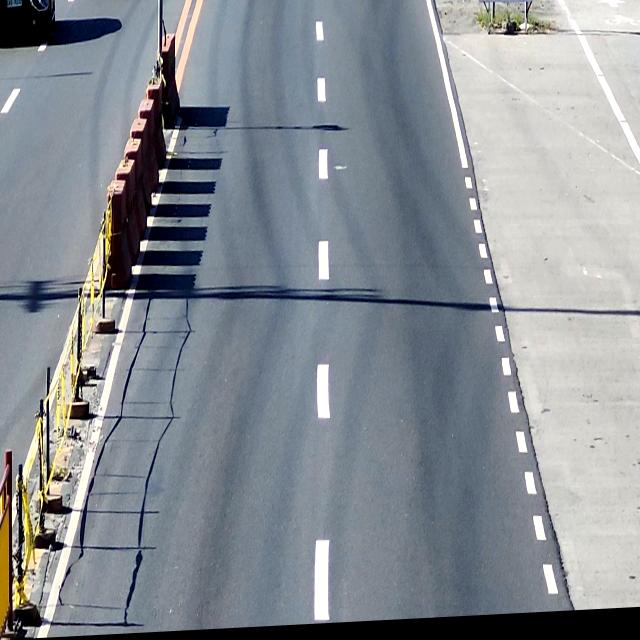Car: (0, 0, 57, 47)
License-Plate: (4, 0, 22, 9)
